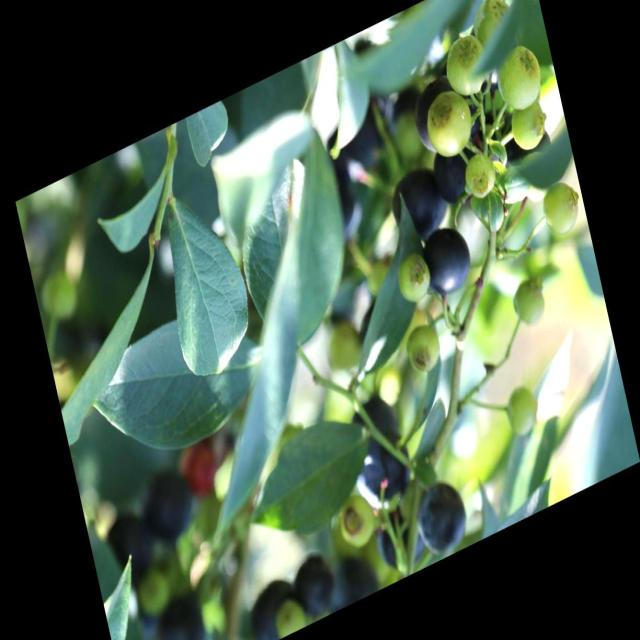blueberry: (96, 501, 161, 604), (351, 424, 419, 522), (137, 460, 204, 558), (385, 159, 452, 251), (408, 472, 476, 562), (404, 65, 464, 157), (414, 216, 476, 304), (236, 567, 305, 639), (428, 141, 484, 216), (288, 544, 343, 620), (151, 580, 216, 640)
blueberry-unripe: (423, 82, 482, 170), (490, 38, 548, 118), (440, 29, 495, 107), (502, 90, 553, 162), (334, 487, 381, 559), (536, 172, 583, 242), (320, 311, 366, 378), (390, 247, 437, 310), (402, 316, 446, 382), (499, 381, 543, 443), (459, 147, 502, 206), (507, 274, 548, 332), (468, 0, 514, 49)
